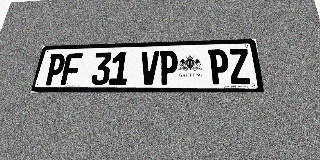1: (109, 52, 129, 85)
3: (91, 52, 112, 85)
F: (60, 53, 83, 85)
P: (208, 49, 230, 84), (43, 53, 67, 85), (159, 50, 178, 85)
V: (139, 51, 159, 85)
Z: (228, 48, 252, 84)
